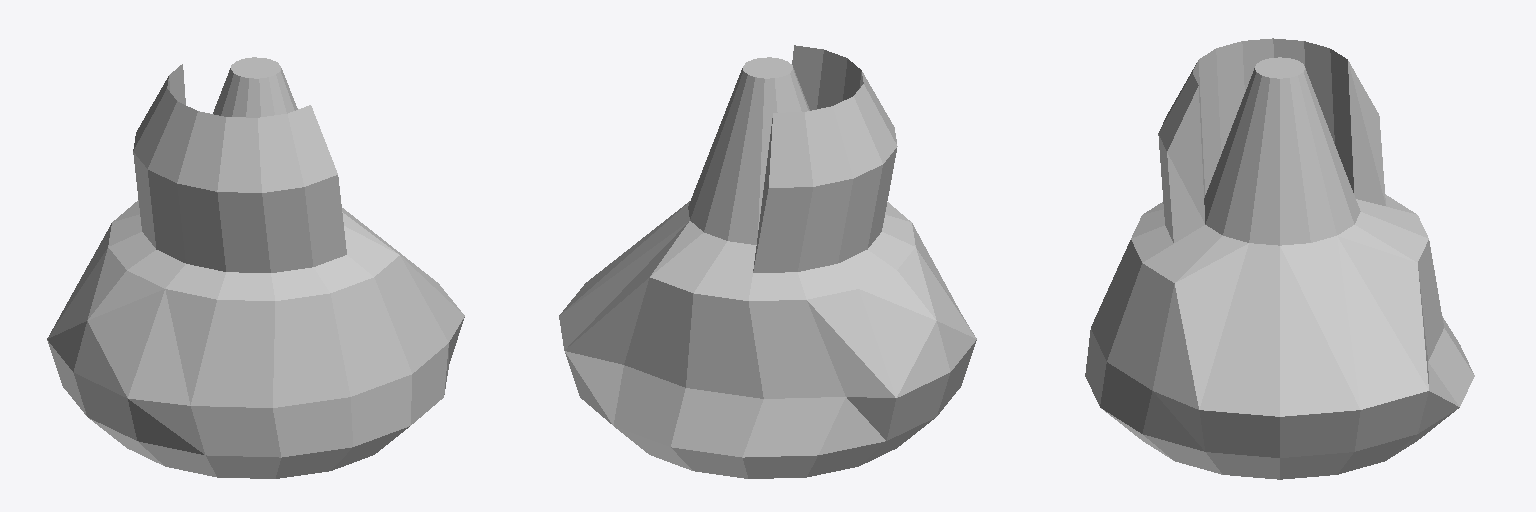
Rendered from lettuce-eat3.obj.
3 views of the same model, side by side, from view 1: azimuth 30°, elevation 25°; view 2: azimuth 150°, elevation 25°; view 3: azimuth 270°, elevation 25° (orthographic).
Visible parts, largest first — view 1: sphere1; view 2: sphere1; view 3: sphere1.
Part boxes in pixels (left/top/right/bottom): sphere1: left=47, top=57, right=464, bottom=478; sphere1: left=559, top=45, right=976, bottom=478; sphere1: left=1085, top=38, right=1474, bottom=479.
Size of the model in its own units: 2 by 1.97 by 1.85.